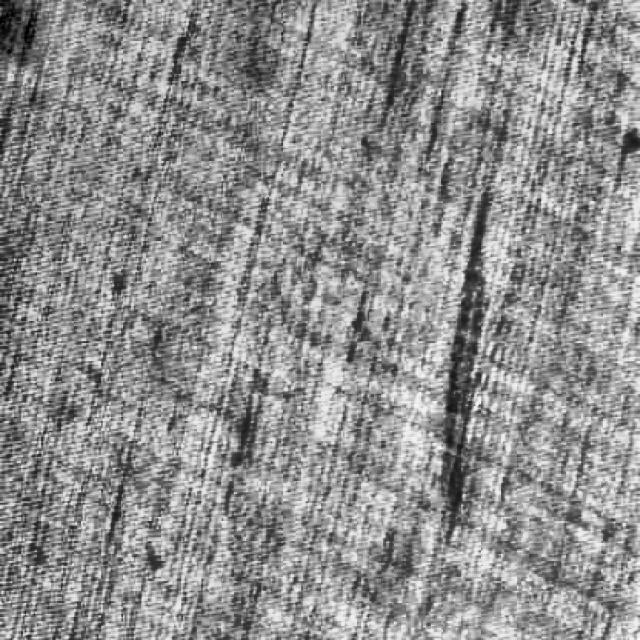oil_spot: (420, 166, 506, 540)
